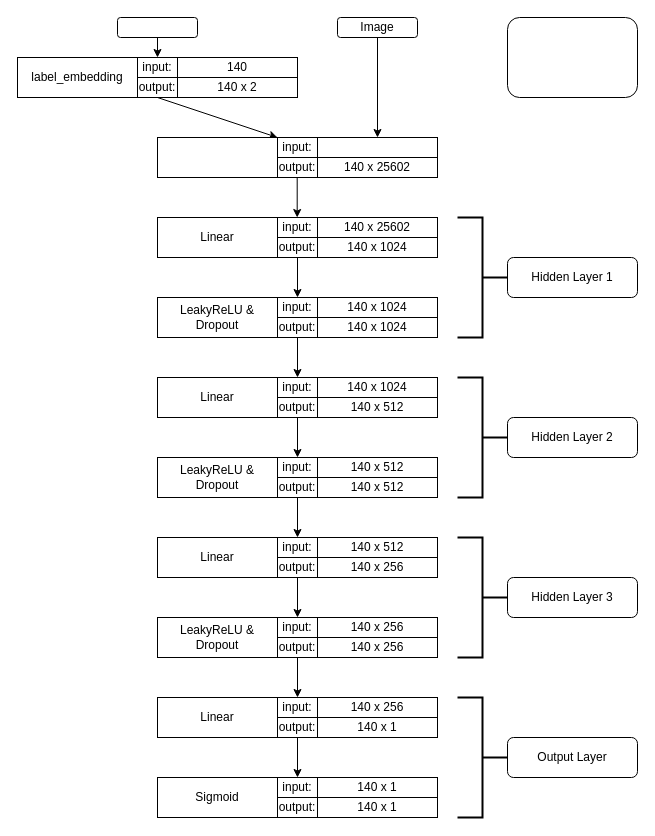
This 655x836 diagram has some shape labels left out. The shapes that lost their labels are listed below. From the top down, each one's centre as x and y in pixels, then its label:
At [157,27]: "Labels".
At [572,57]: "batch size = 140 image size = 160 x 160 = 25600".
At [217,157]: "Concatenation".
At [377,147]: "(140x2), (140x25600)".
